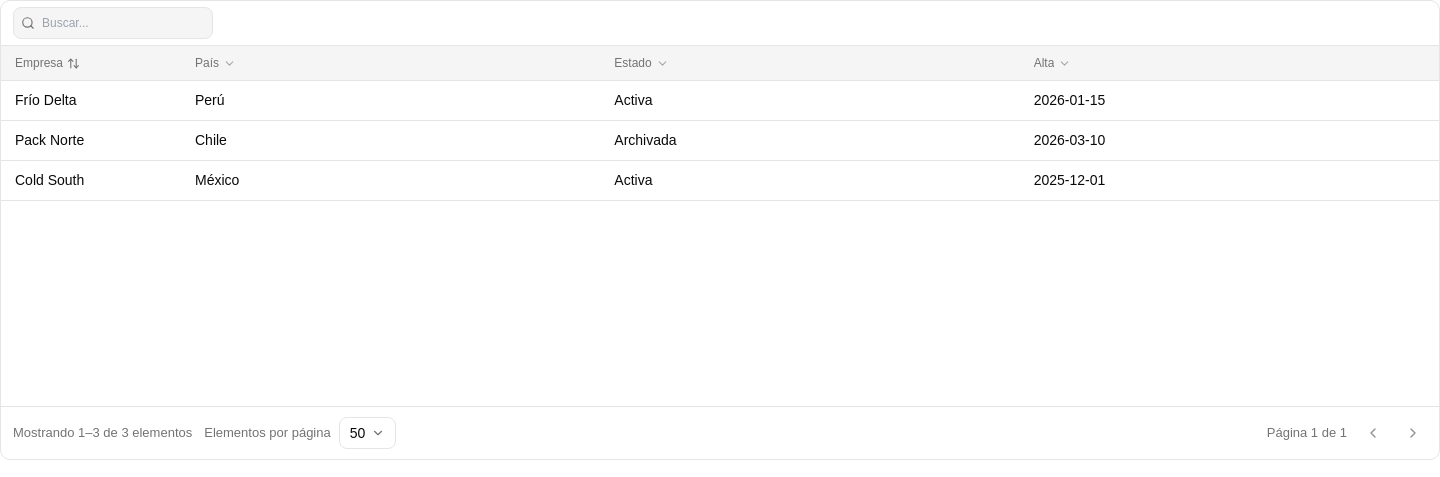
Test: when the calendar cannot be downloaded the menu says so and retrying brings it
This screenshot has width=1440, height=477.
Click the button "Alta".
click(1044, 63)  # box [1034,54,1425,72]
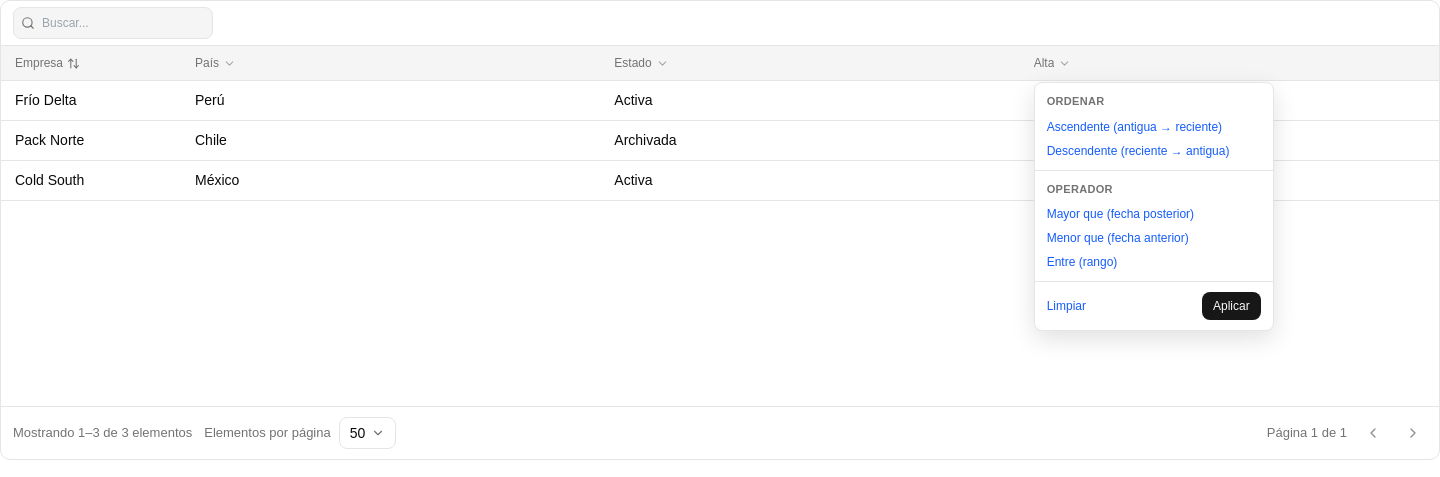
Click the button "Entre (rango)".
click(1154, 262)  # box [1047,253,1261,271]
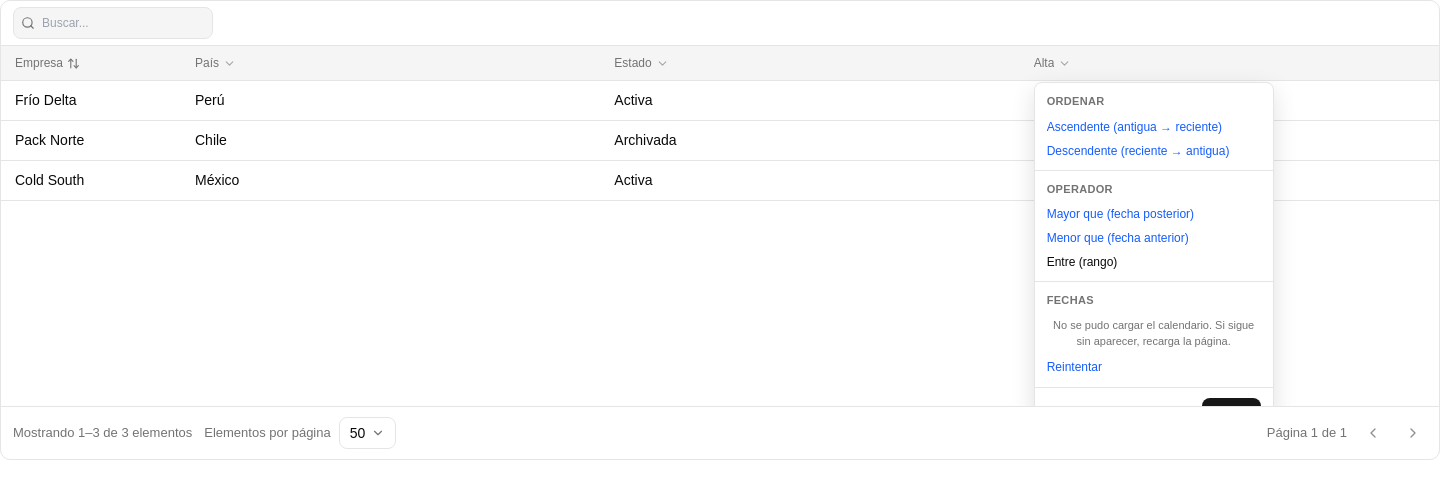
Now the text "Ordenar" is shown, box [1047,93,1105,110]
Now the message shows "No se pudo cargar el calendario. Si sigue sin aparecer, recarga la página.", box [1053,318,1254,347]
Click the button "Reintentar".
click(1074, 366)  # box [1047,358,1102,376]
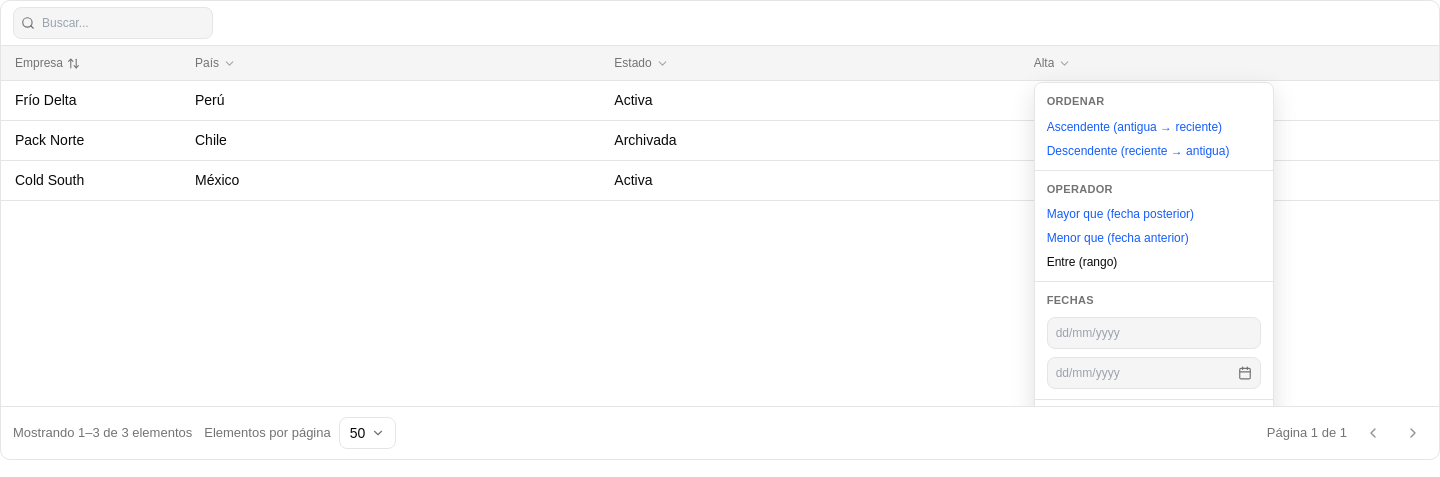
Now the button named "Seleccionar rango" is shown, box [1233,360,1257,384]
Now the message is gone
Now the number of fields with class "gdy-date-input" is 2, box [1047,316,1261,348]; [1047,356,1261,388]
